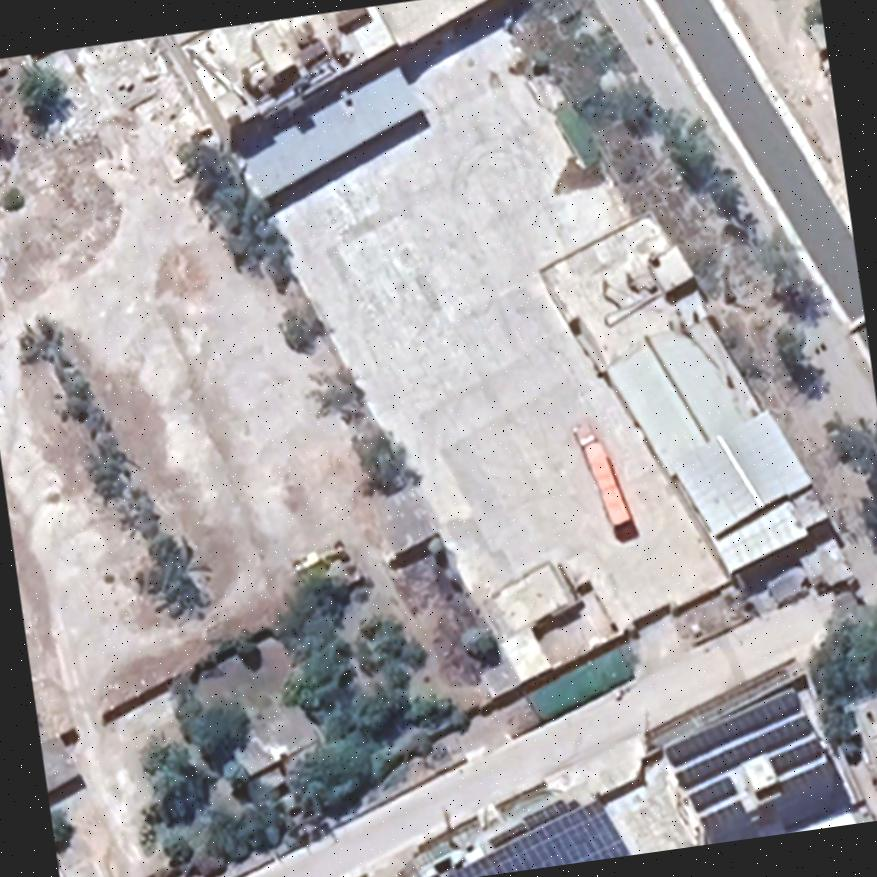Solarpanel: (649, 684, 864, 842), (400, 779, 635, 877)
